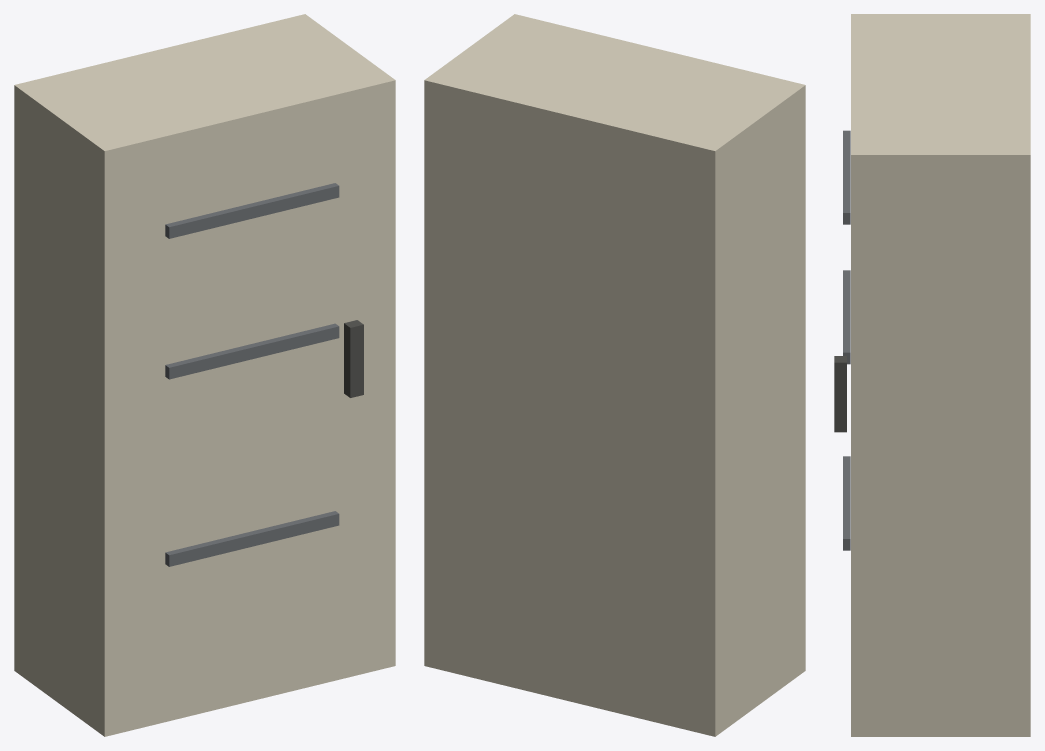
Rendered from electrical_cabinet_04.glb.
The picture shows the model from 3 angles, left to right: view 1: azimuth 30°, elevation 25°; view 2: azimuth 150°, elevation 25°; view 3: azimuth 270°, elevation 25°; orthographic projection.
Parts seen in each view (by area): view 1: cab, vent0.35, vent0.75, vent1.05, handle; view 2: cab; view 3: cab, handle, vent0.35, vent1.05, vent0.75.
Part boxes in pixels (x1,y1,x2,y2): cab: (14, 14, 395, 736); vent0.35: (165, 511, 339, 566); vent0.75: (165, 323, 339, 379); vent1.05: (165, 183, 339, 238); handle: (344, 320, 363, 397); cab: (424, 14, 805, 736); cab: (851, 14, 1030, 736); handle: (834, 356, 846, 432); vent0.35: (843, 456, 850, 550); vent1.05: (843, 130, 850, 224); vent0.75: (843, 270, 850, 364).
Bounding box in the file's own units: 0.65 × 1.25 × 0.3825.
